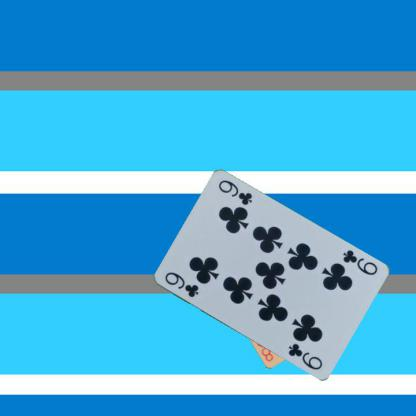9c: (339, 247, 379, 276), (162, 269, 200, 299)
